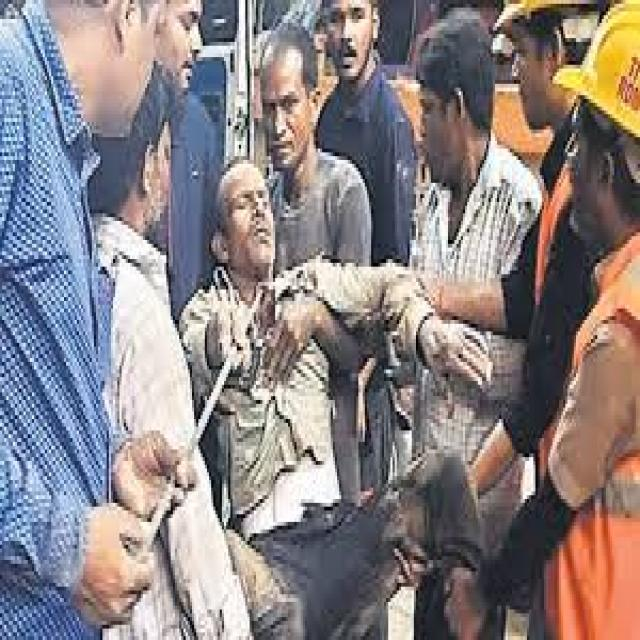Reflective-Jacket: (537, 217, 640, 636)
Safety-Helmet: (554, 0, 640, 175)
